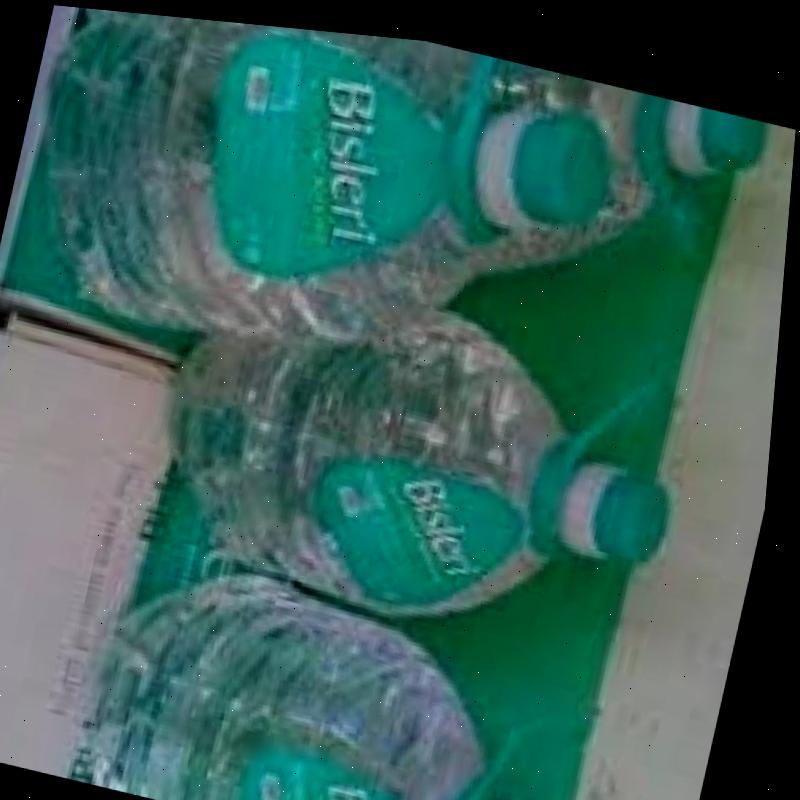botella: (0, 2, 625, 416), (140, 234, 714, 664), (80, 550, 639, 800), (478, 51, 777, 320)
